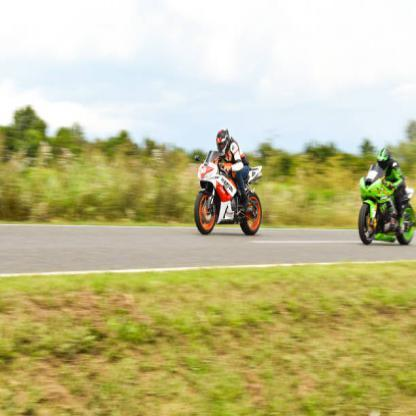Motorcycle: (193, 149, 269, 240), (353, 162, 415, 251)
